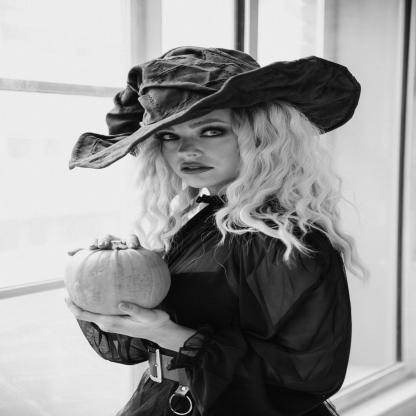Eye: (198, 127, 230, 139), (159, 132, 180, 143)
Mouth: (180, 162, 215, 175)
Nose: (178, 139, 203, 159)
